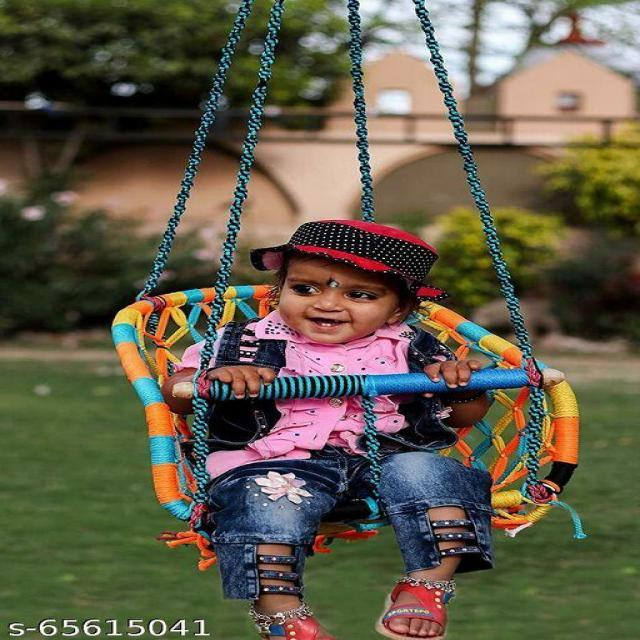child: (160, 215, 495, 640)
